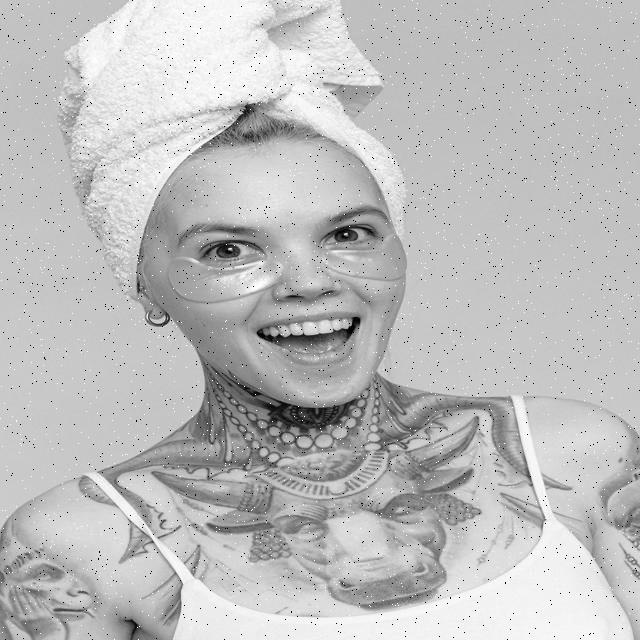Happiness: (162, 142, 410, 412)
